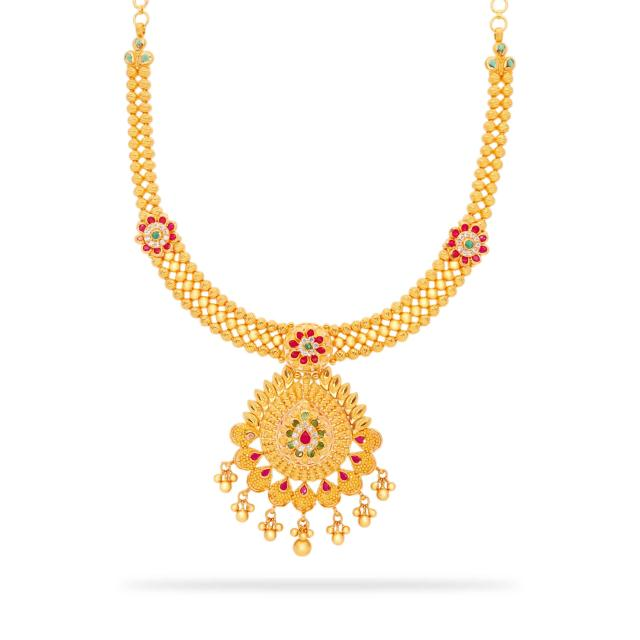missing gem: (245, 432, 256, 439), (137, 235, 144, 242)
